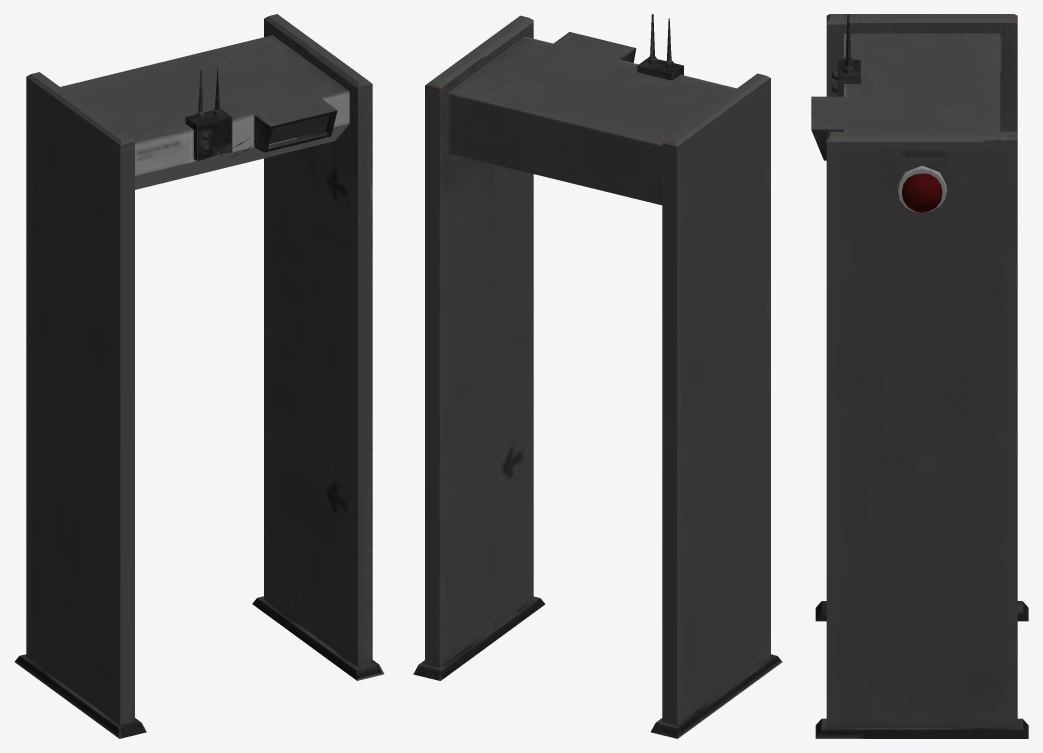
Rendered from metal-detector.lod0.glb.
The picture shows the model from 3 angles, left to right: view 1: azimuth 30°, elevation 25°; view 2: azimuth 150°, elevation 25°; view 3: azimuth 270°, elevation 25°; orthographic projection.
Parts seen in each view (by area): view 1: polySurface8_lambert1_0; view 2: polySurface8_lambert1_0; view 3: polySurface8_lambert1_0.
Part boxes in pixels (box(x1,y1,x2,y2)): polySurface8_lambert1_0: box(14, 14, 384, 738); polySurface8_lambert1_0: box(413, 14, 782, 738); polySurface8_lambert1_0: box(811, 14, 1028, 738).
Bounding box in the file's own units: 1.02 × 2.2 × 0.676.
Materials: 1 (1 with a texture image).
